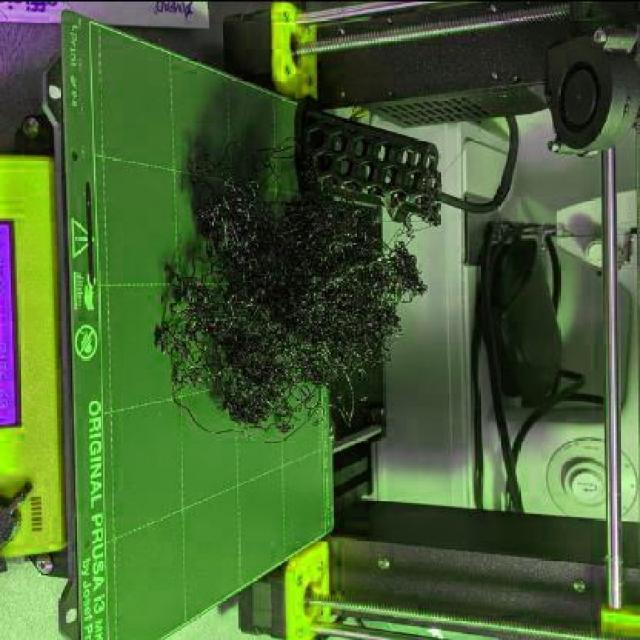spaghetti: (158, 139, 429, 445)
